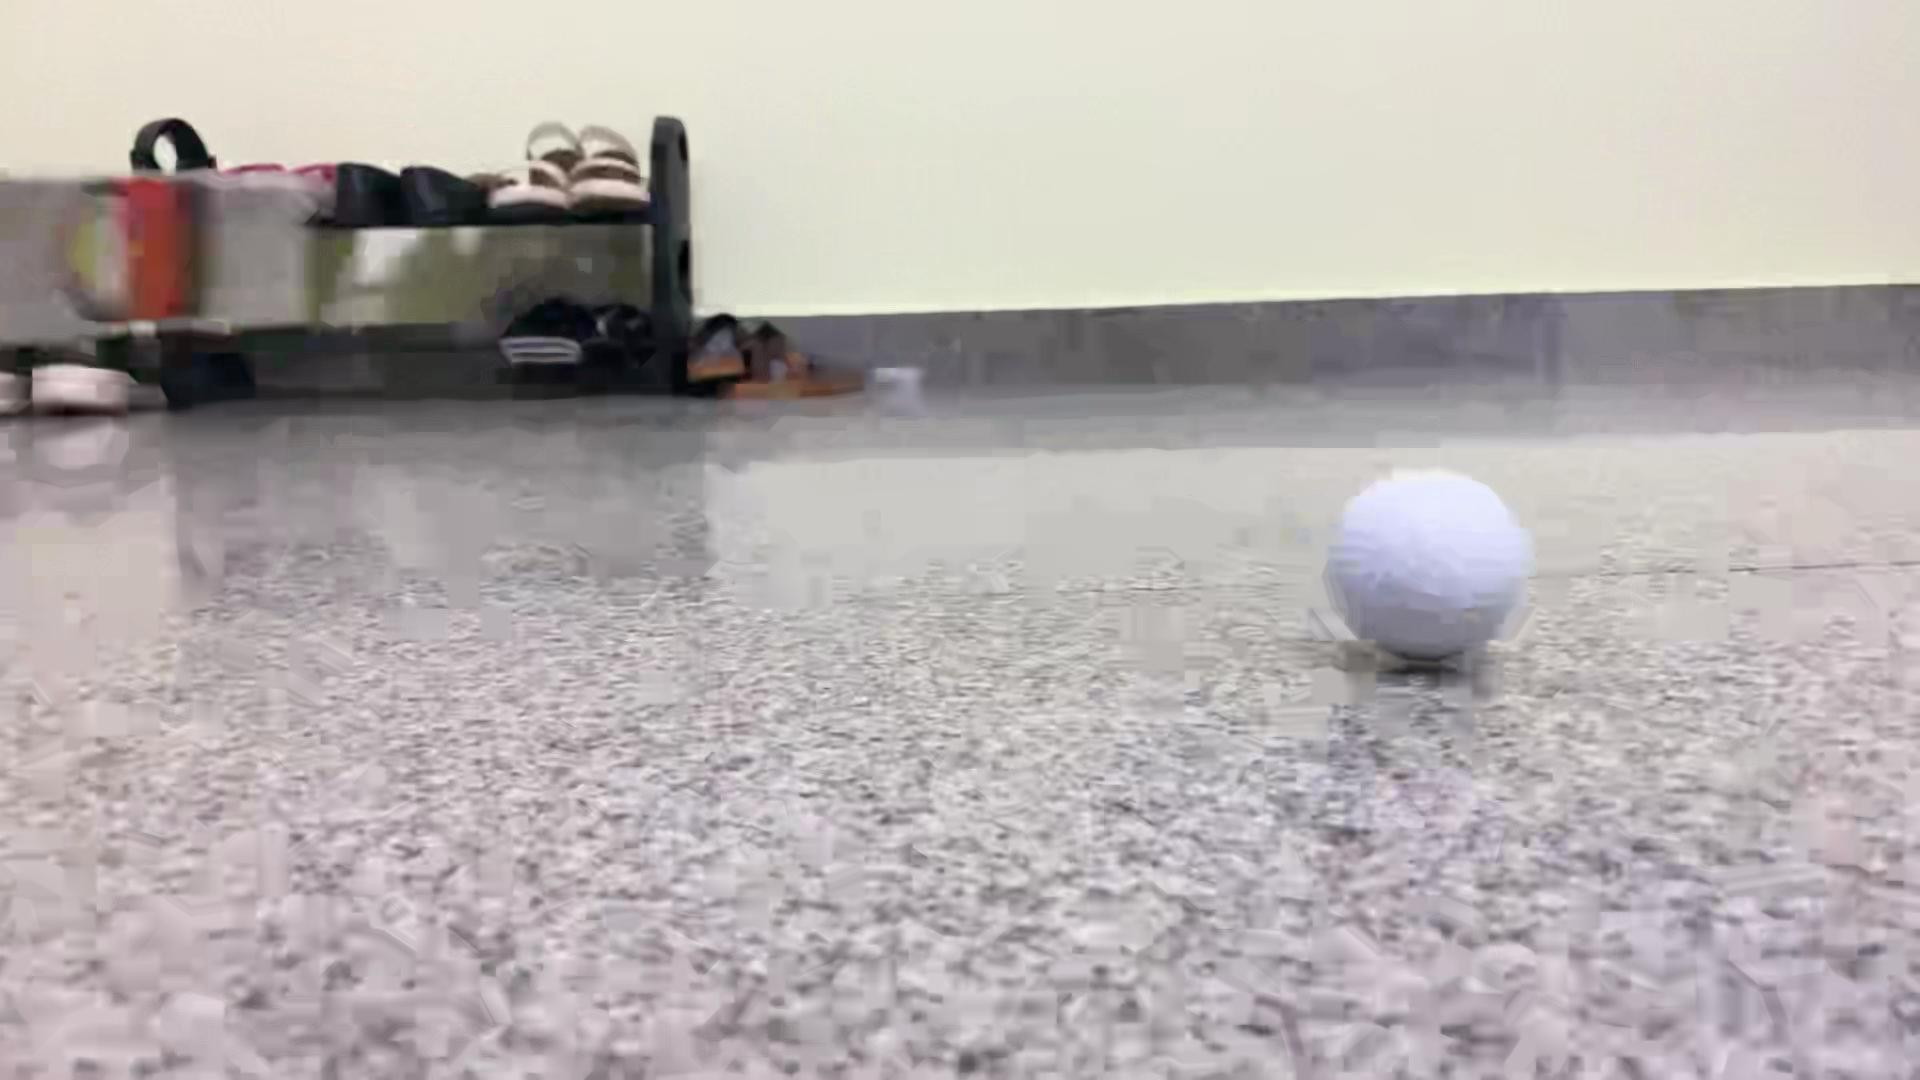golfball: (1327, 472, 1530, 660)
